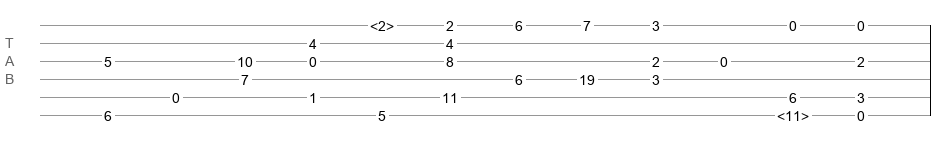0: (172, 90, 180, 100), (309, 54, 317, 64), (720, 54, 728, 64), (789, 18, 797, 28), (857, 18, 865, 28), (857, 108, 865, 118)
1: (309, 90, 317, 100)
10: (237, 54, 253, 64)
11: (442, 90, 458, 100)
19: (579, 72, 595, 82)
2: (446, 18, 454, 28), (652, 54, 660, 64), (857, 54, 865, 64)
3: (652, 18, 660, 28), (652, 72, 660, 82), (857, 90, 865, 100)
4: (309, 36, 317, 46), (446, 36, 454, 46)
5: (104, 54, 112, 64), (378, 108, 386, 118)
6: (104, 108, 112, 118), (515, 18, 523, 28), (515, 72, 523, 82), (789, 90, 797, 100)
7: (241, 72, 249, 82), (583, 18, 591, 28)
8: (446, 54, 454, 64)
harmonic: (777, 108, 809, 118), (370, 18, 394, 28)
